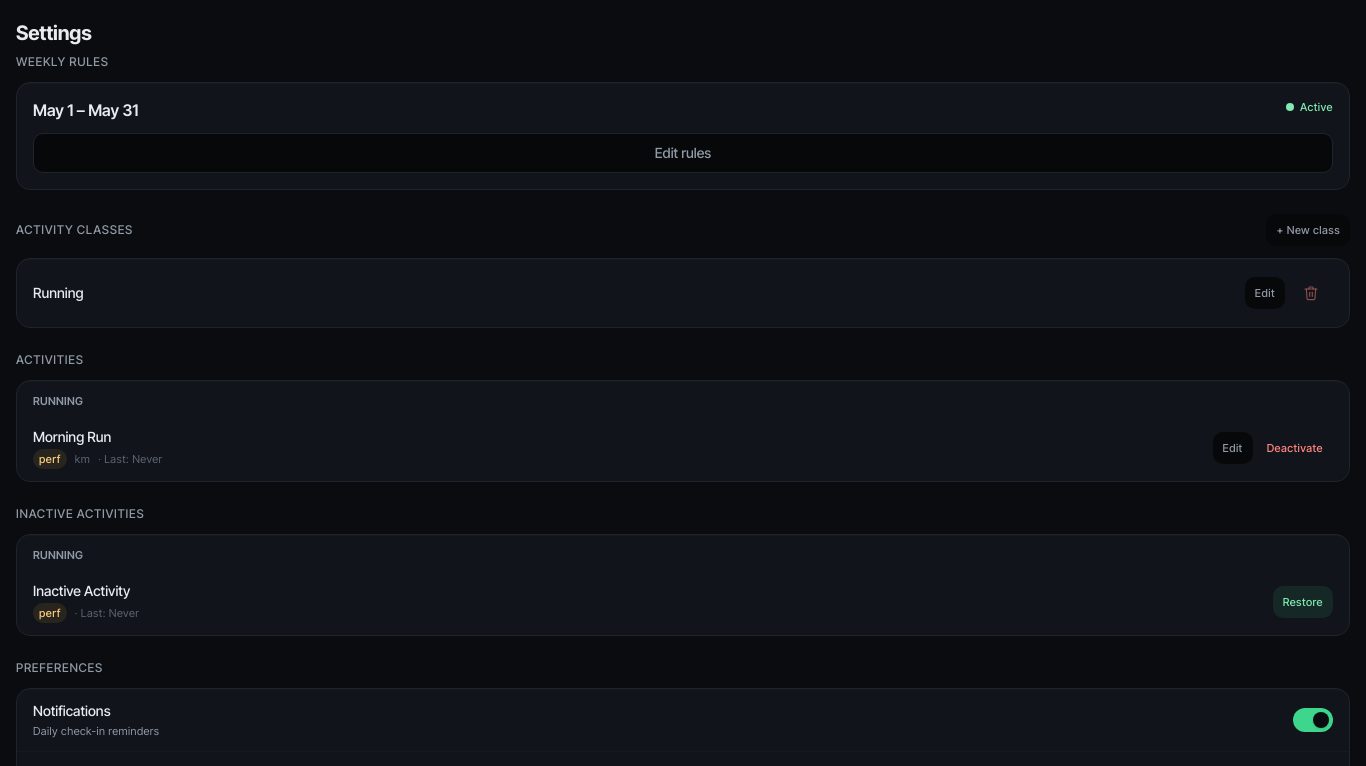
Scenario: SettingsScreen — P25.2 DeleteActivityClassDialog centered modal › retains two-step delete: step one confirm before listing activities
The image size is (1366, 766).
Step 1. Click the button named "delete running" → (1311, 293), box 1289,271 -> 1333,315
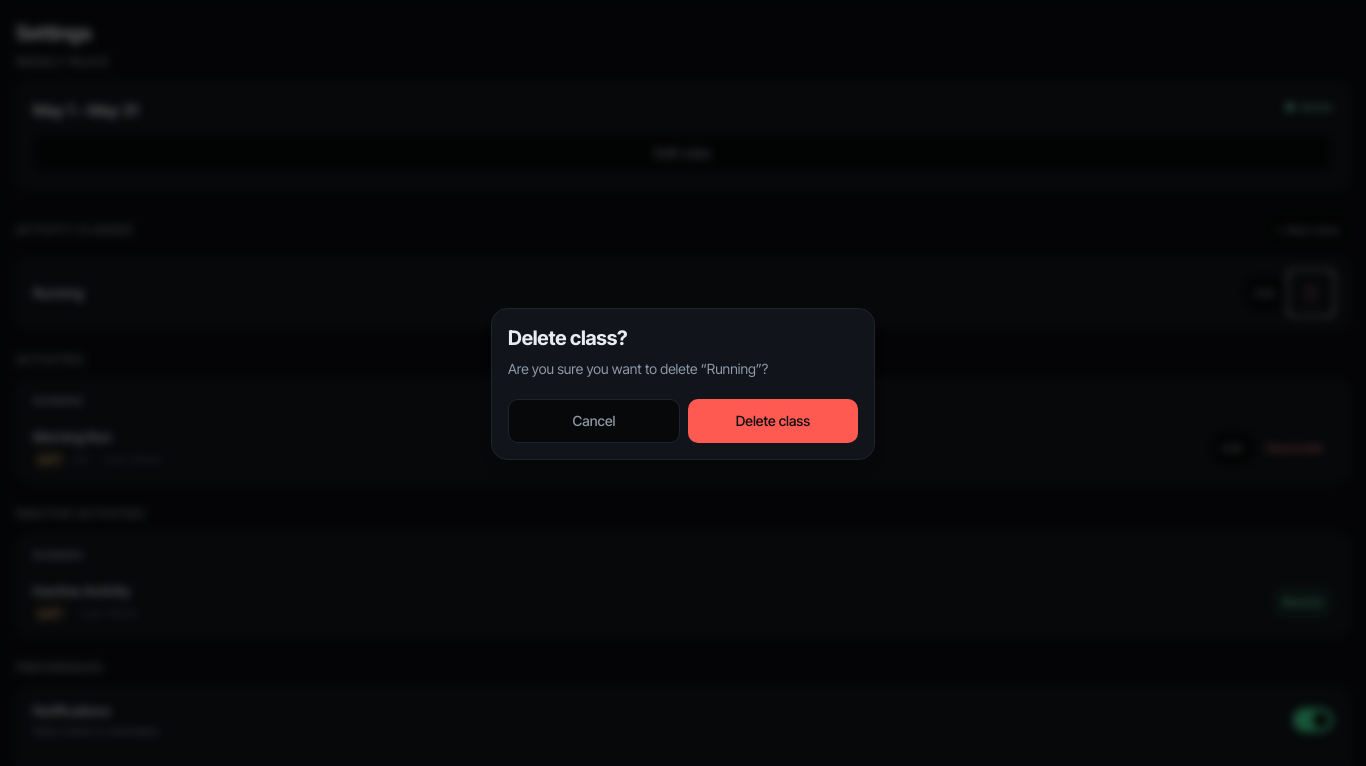
Expected: the text "will be deleted" is not shown
Now the heading "Delete class?" is shown, box 508,326 -> 628,350
Step 2. Click the button "Delete class" → (773, 421), box 688,399 -> 858,443
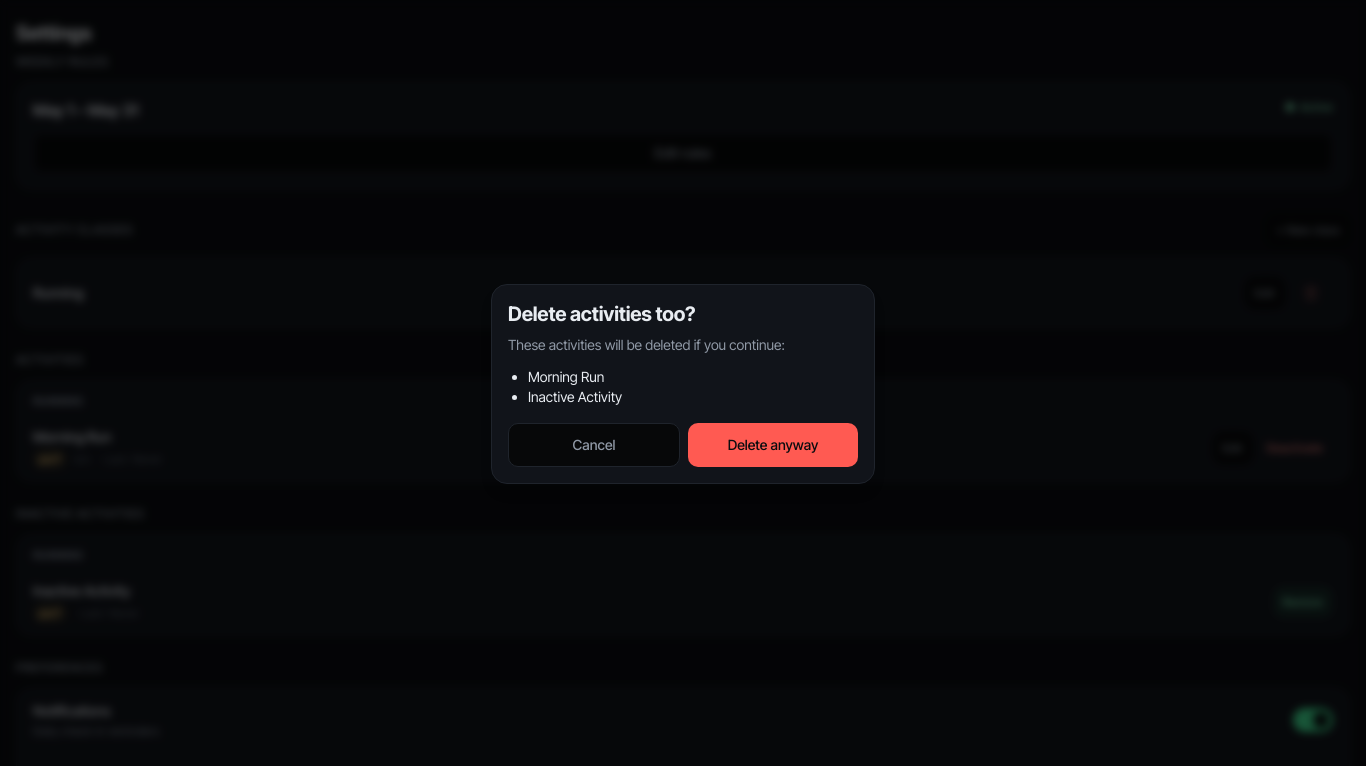
Now the list item "Morning Run" is shown, box 528,368 -> 604,385
Now the list item "Inactive Activity" is shown, box 528,388 -> 622,405
Now the text "These activities will be deleted if you continue:" is shown, box 508,336 -> 785,353
